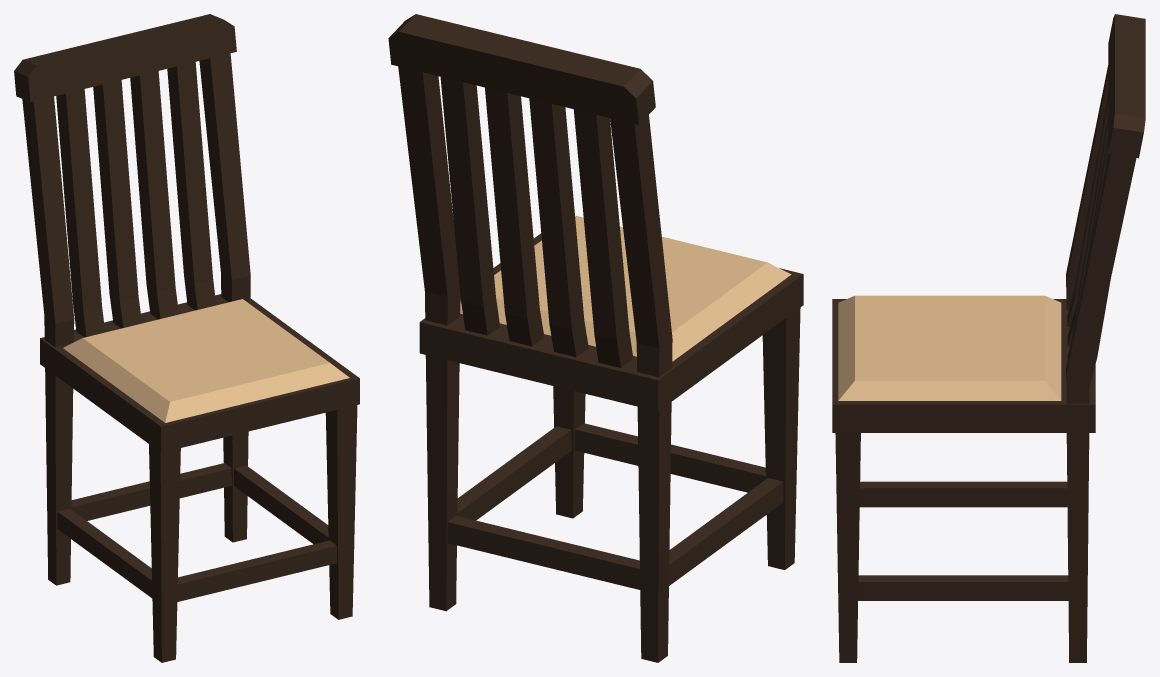
Rendered from chair-dinner-christmas.glb.
3 views of the same model, side by side, from view 1: azimuth 30°, elevation 25°; view 2: azimuth 150°, elevation 25°; view 3: azimuth 270°, elevation 25° (orthographic). The views are drawn at different scales.
Visible parts, largest first — view 1: chair_dinner_christmas; view 2: chair_dinner_christmas; view 3: chair_dinner_christmas.
Part boxes in pixels (<box>): chair_dinner_christmas: <box>14,14,359,662</box>; chair_dinner_christmas: <box>388,14,803,662</box>; chair_dinner_christmas: <box>832,14,1145,662</box>.
Size of the model in its own units: 0.4287 by 1 by 0.5181.
1 material, 1 textured.
